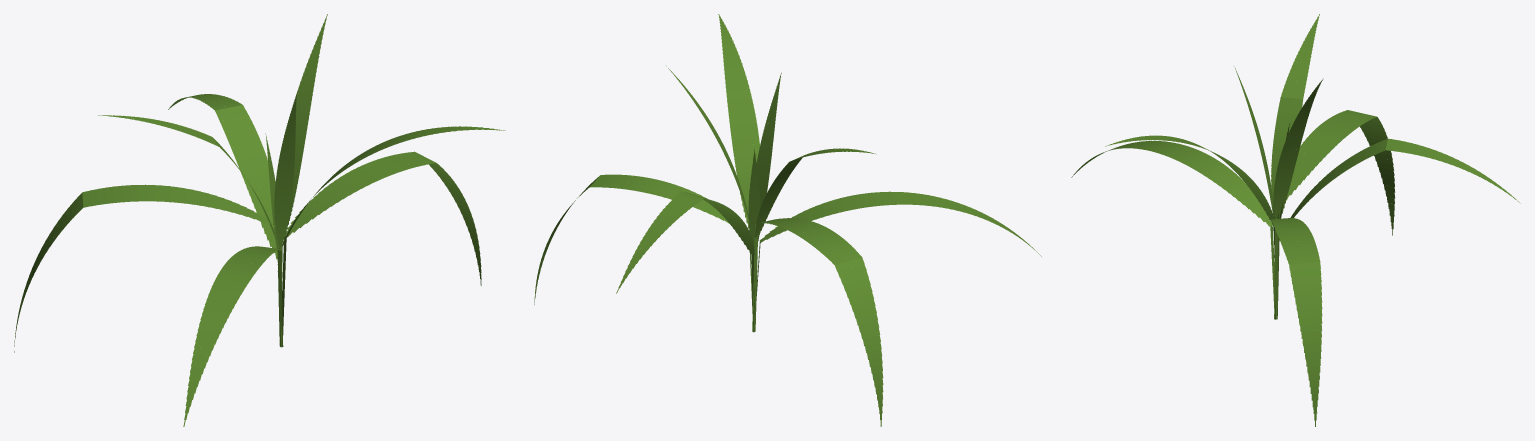
The model's file is maize_005_day_070.dae.
3 renders of one model, left to right at view 1: azimuth 30°, elevation 25°; view 2: azimuth 150°, elevation 25°; view 3: azimuth 270°, elevation 25°, orthographic. The views are drawn at different scales.
Parts seen in each view (by area): view 1: node; view 2: node; view 3: node.
Part boxes in pixels (bbox=[...]): node: bbox=[14, 14, 505, 426]; node: bbox=[534, 14, 1041, 426]; node: bbox=[1071, 14, 1520, 426].
Bounding box in the file's own units: 0.8214 × 0.5573 × 0.8065.
1 material, 1 textured.
